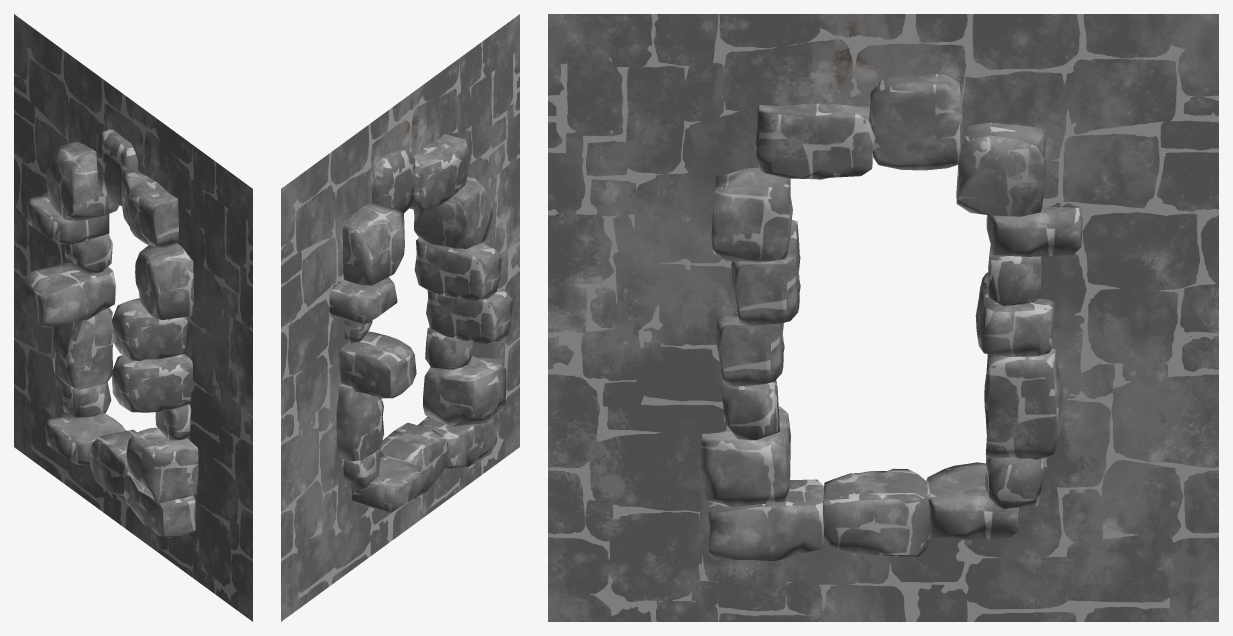
The model's file is Wall_Window_02.fbx.
3 views of the same model, side by side, from view 1: azimuth 30°, elevation 25°; view 2: azimuth 150°, elevation 25°; view 3: azimuth 270°, elevation 25° (orthographic). The views are drawn at different scales.
Parts seen in each view (by area): view 1: Wall_with_Window.001, rock_1.006; view 2: Wall_with_Window.001, rock_1.006; view 3: Wall_with_Window.001, rock_1.006.
Part boxes in pixels (x1,y1,x2,y2): Wall_with_Window.001: [14, 14, 252, 621]; rock_1.006: [22, 129, 198, 537]; Wall_with_Window.001: [281, 14, 519, 621]; rock_1.006: [329, 134, 512, 512]; Wall_with_Window.001: [548, 14, 1218, 621]; rock_1.006: [700, 74, 1082, 560].
Size of the model in its own units: 1.01 by 5 by 5.
